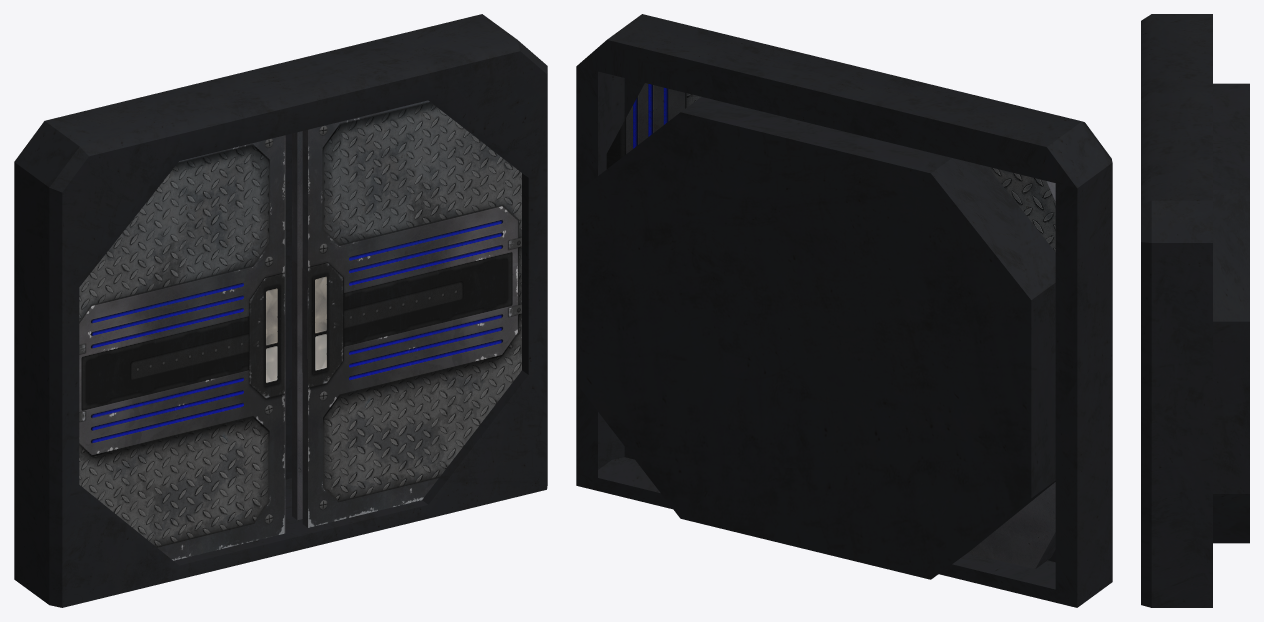
File: airlockDoor.fbx
3 views of the same model, side by side, from view 1: azimuth 30°, elevation 25°; view 2: azimuth 150°, elevation 25°; view 3: azimuth 270°, elevation 25° (orthographic). The views are drawn at different scales.
Parts seen in each view (by area): view 1: doorFrame; view 2: doorFrame; view 3: doorFrame.
Boxes of the visible parts, left/top/right/bottom form: doorFrame: left=14, top=14, right=547, bottom=607; doorFrame: left=576, top=14, right=1112, bottom=607; doorFrame: left=1141, top=14, right=1249, bottom=607.
Size of the model in its own units: 703 by 608 by 152.
